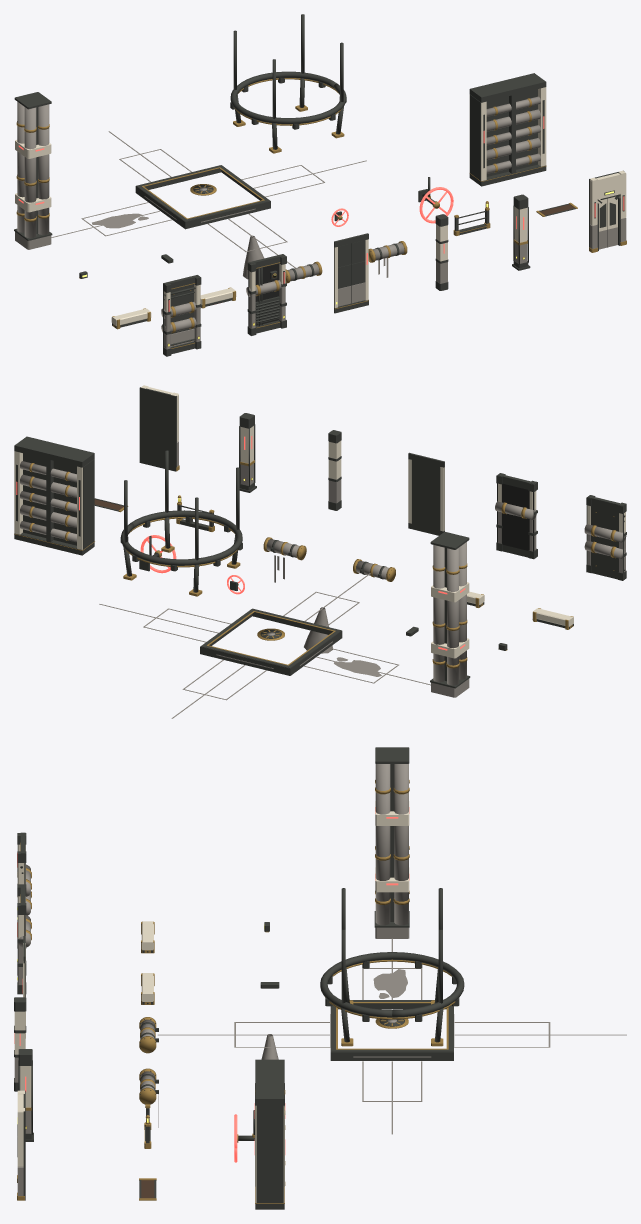
File: kit_ruins_b2.glb
3 renders of one model, top to bottom at view 1: azimuth 30°, elevation 25°; view 2: azimuth 150°, elevation 25°; view 3: azimuth 270°, elevation 25°, orthographic. The views are drawn at different scales.
Visible parts, largest first — view 1: b2_pipewall, b2_pipecluster, b2_seal_dais, b2_seal_ring, b2_wall_vent, b2_wall, b2_door, b2_wall_flat, b2_pillar, b2_corner, b2_pipe_drip, b2_valve_big (+5 smaller); view 2: b2_pipewall, b2_pipecluster, b2_seal_dais, b2_seal_ring, b2_wall_vent, b2_wall, b2_door, b2_wall_flat, b2_pillar, b2_corner, b2_pipe_drip, b2_pipe (+4 smaller); view 3: b2_pipecluster, b2_seal_ring, b2_seal_dais, b2_pipewall, b2_wall_vent, b2_pillar, b2_door, b2_corner, b2_wall, b2_puddle, b2_pipe_drip.
Part boxes in pixels (x1=…): b2_pipewall: x1=469, y1=73, x2=546, y2=186; b2_pipecluster: x1=14, y1=92, x2=52, y2=249; b2_seal_dais: x1=51, y1=131, x2=366, y2=267; b2_seal_ring: x1=230, y1=14, x2=346, y2=153; b2_wall_vent: x1=246, y1=254, x2=286, y2=335; b2_wall: x1=161, y1=275, x2=201, y2=356; b2_door: x1=589, y1=170, x2=626, y2=252; b2_wall_flat: x1=334, y1=233, x2=368, y2=313; b2_pillar: x1=512, y1=194, x2=530, y2=270; b2_corner: x1=435, y1=214, x2=448, y2=290; b2_pipe_drip: x1=368, y1=241, x2=407, y2=277; b2_valve_big: x1=418, y1=177, x2=453, y2=223; b2_pipewall: x1=14, y1=436, x2=94, y2=555; b2_pipecluster: x1=430, y1=532, x2=470, y2=697; b2_seal_dais: x1=99, y1=573, x2=430, y2=718; b2_seal_ring: x1=120, y1=450, x2=242, y2=596; b2_wall_vent: x1=495, y1=473, x2=537, y2=559; b2_wall: x1=584, y1=495, x2=626, y2=580; b2_door: x1=139, y1=385, x2=179, y2=471; b2_wall_flat: x1=408, y1=452, x2=444, y2=535; b2_pillar: x1=239, y1=413, x2=256, y2=492; b2_corner: x1=328, y1=430, x2=341, y2=510; b2_pipe_drip: x1=263, y1=537, x2=306, y2=582; b2_pipe: x1=353, y1=559, x2=395, y2=581; b2_pipecluster: x1=374, y1=747, x2=409, y2=938; b2_seal_ring: x1=320, y1=888, x2=464, y2=1046; b2_seal_dais: x1=158, y1=938, x2=626, y2=1134; b2_pipewall: x1=254, y1=1059, x2=285, y2=1209; b2_wall_vent: x1=17, y1=884, x2=31, y2=994; b2_pillar: x1=18, y1=1049, x2=33, y2=1141; b2_door: x1=17, y1=1090, x2=25, y2=1200; b2_corner: x1=14, y1=997, x2=26, y2=1091; b2_wall: x1=17, y1=832, x2=31, y2=916; b2_puddle: x1=373, y1=969, x2=407, y2=998; b2_pipe_drip: x1=139, y1=1068, x2=158, y2=1127.
Size of the model in its own units: 27.95 by 10.2 by 25.08.
